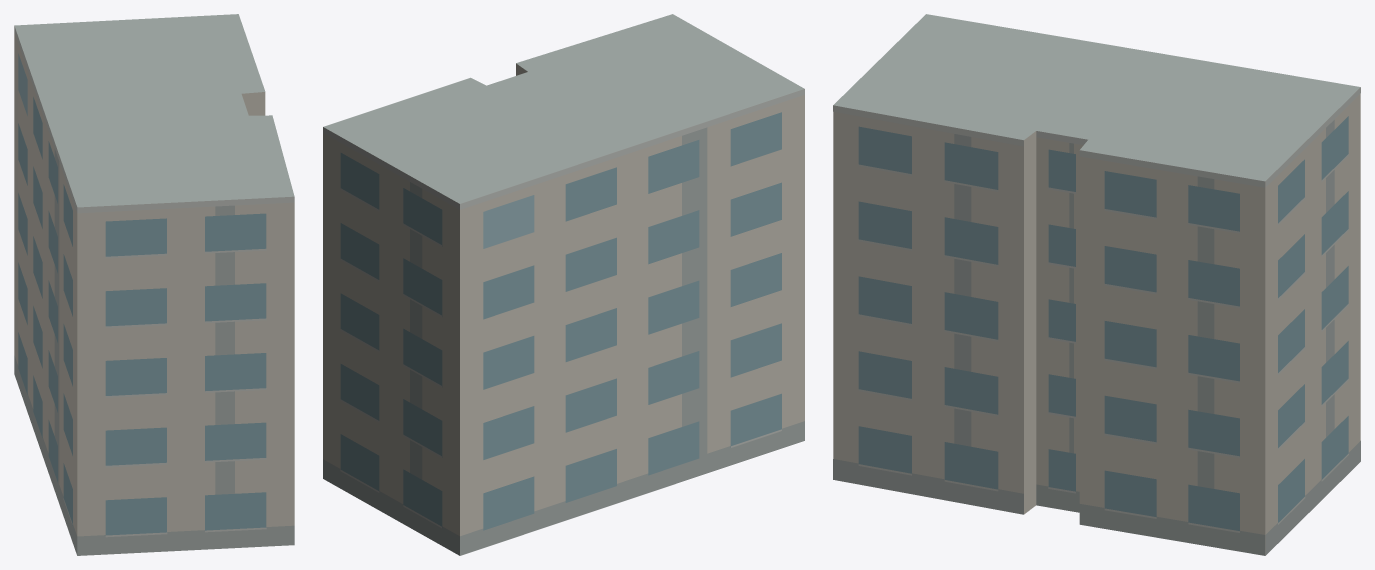
File: survey-upis-32937489.glb
3 renders of one model, left to right at view 1: azimuth 30°, elevation 25°; view 2: azimuth 150°, elevation 25°; view 3: azimuth 270°, elevation 25°, orthographic. The views are drawn at different scales.
Visible parts, largest first — view 1: survey-upis-32937489.tmp; view 2: survey-upis-32937489.tmp; view 3: survey-upis-32937489.tmp.
Boxes of the visible parts, left/top/right/bottom form: survey-upis-32937489.tmp: left=14, top=14, right=294, bottom=555; survey-upis-32937489.tmp: left=323, top=14, right=804, bottom=555; survey-upis-32937489.tmp: left=833, top=14, right=1360, bottom=555.
Bounding box in the file's own units: 13.82 × 14.4 × 18.4.
